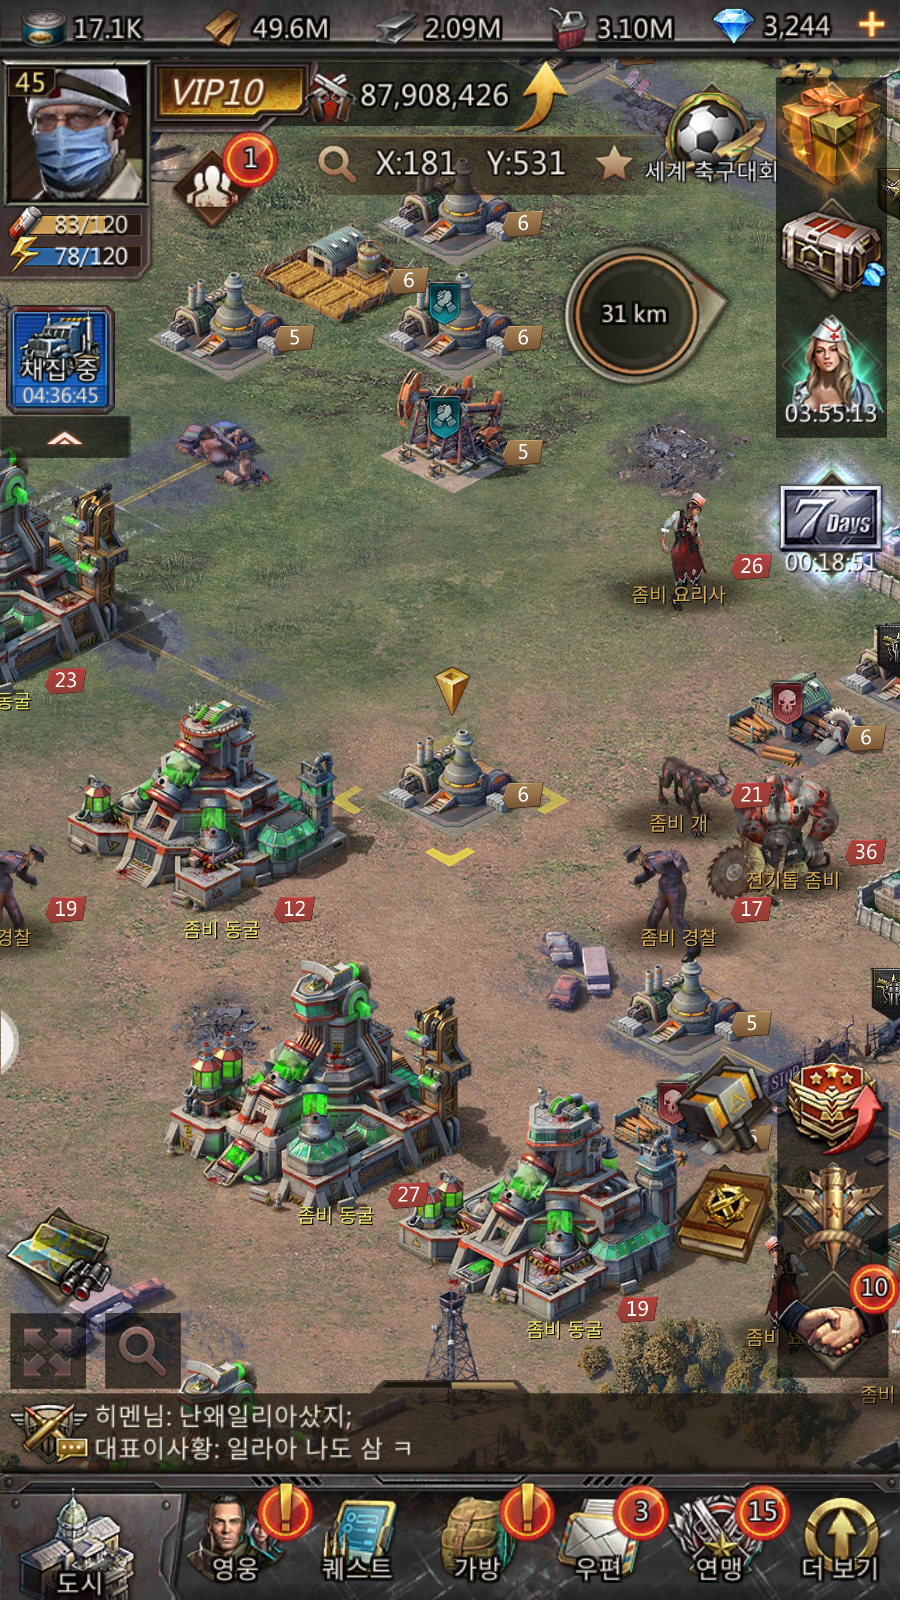city: (1, 1493, 184, 1600)
empty_steel: (322, 644, 576, 885)
open_panel: (98, 1304, 196, 1402)
troops_cnt_1: (158, 120, 284, 240)
